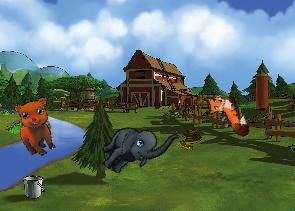bear: (6, 91, 69, 161)
elephant: (94, 103, 180, 192)
fox: (199, 85, 252, 146)
